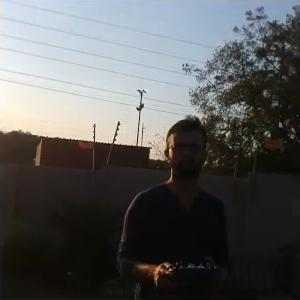follow: (111, 114, 231, 298)
